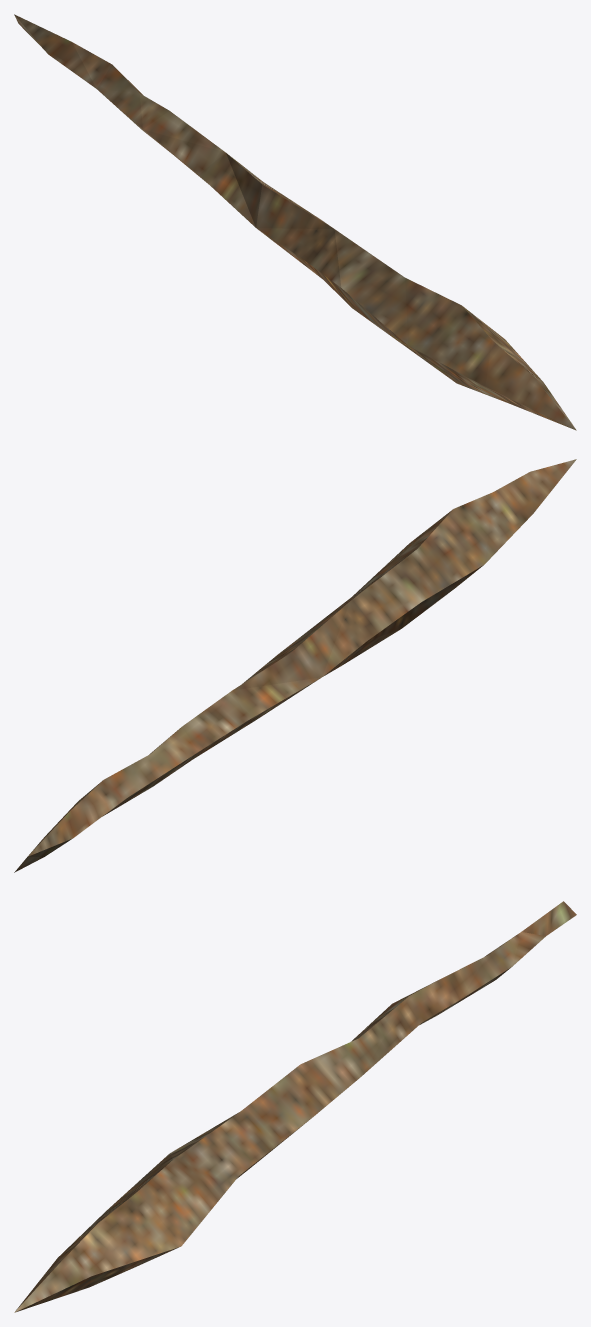
File: earth_shard.obj
The picture shows the model from 3 angles, top to bottom: view 1: azimuth 30°, elevation 25°; view 2: azimuth 150°, elevation 25°; view 3: azimuth 330°, elevation 25°; orthographic projection.
Parts seen in each view (by area): view 1: Cube.001; view 2: Cube.001; view 3: Cube.001.
Part boxes in pixels (x1=…): Cube.001: x1=14, y1=14, x2=576, y2=430; Cube.001: x1=14, y1=459, x2=576, y2=872; Cube.001: x1=14, y1=901, x2=576, y2=1312.
Bounding box in the file's own units: 0.9005 × 0.7676 × 10.01.
